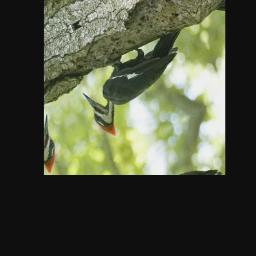Woodpecker: (78, 21, 201, 145)
